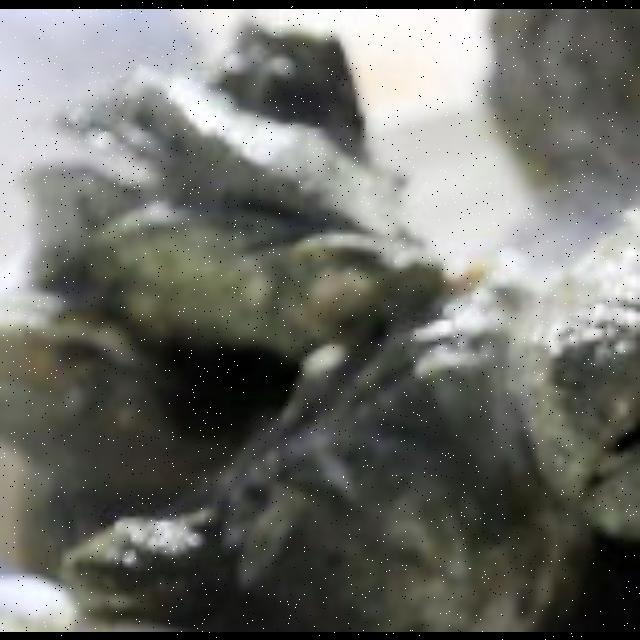Oyster-Closed: (223, 320, 596, 632), (0, 305, 263, 500), (93, 217, 449, 347), (525, 209, 640, 539), (486, 8, 640, 240), (212, 22, 364, 143), (67, 513, 229, 625)
Oyster-Open: (35, 76, 426, 268)
